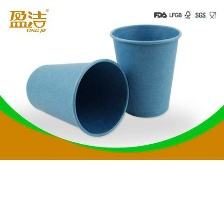paper_cup: (20, 54, 132, 139), (105, 21, 185, 119)
